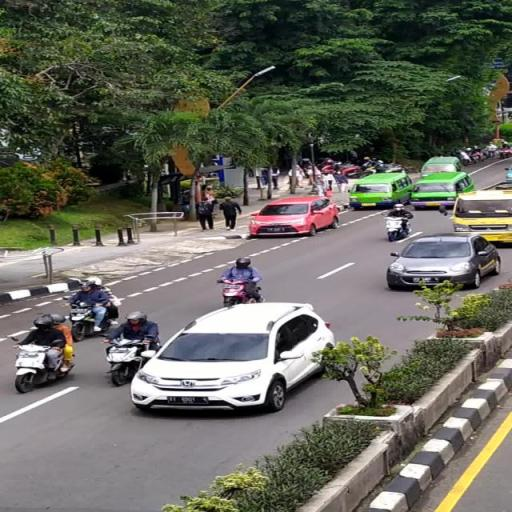Helmet: (124, 309, 150, 330), (81, 275, 103, 293), (34, 316, 56, 330), (234, 256, 252, 271), (393, 200, 404, 212)
Motor: (12, 348, 72, 394), (106, 340, 154, 386), (68, 309, 114, 335), (222, 279, 264, 305), (388, 219, 406, 239)
